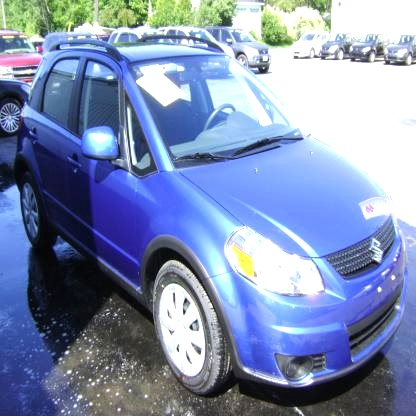Vehicle: (11, 29, 409, 403)
